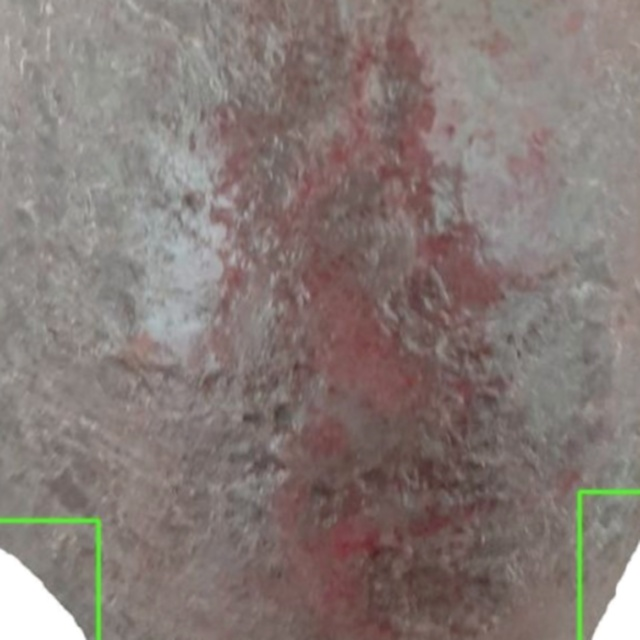Contact Dermatitis: (0, 520, 99, 639)
